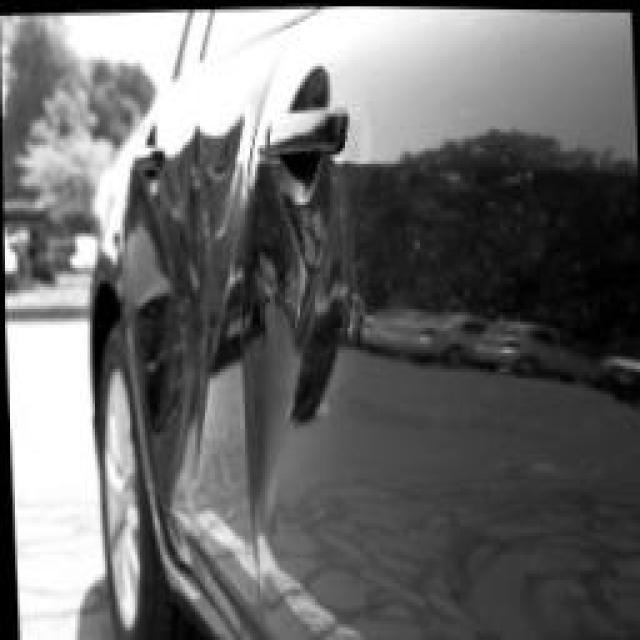Door: (130, 107, 264, 547), (232, 164, 336, 600)
